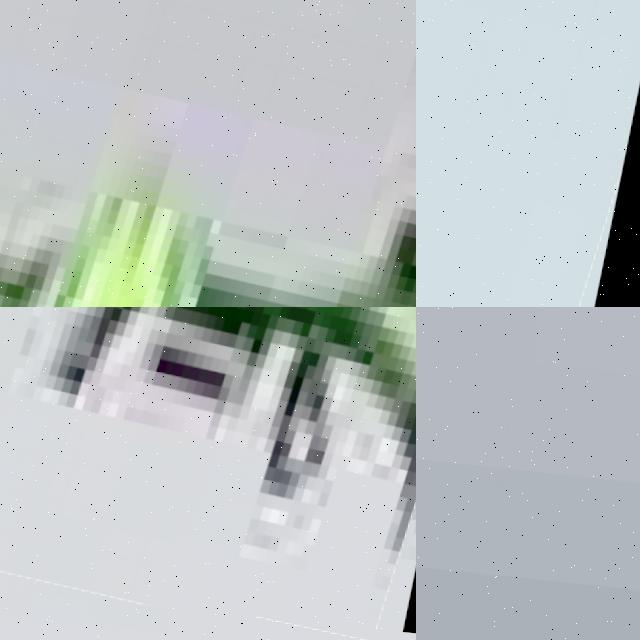0: (0, 307, 416, 637), (0, 0, 416, 307)
drone: (416, 0, 640, 307)
